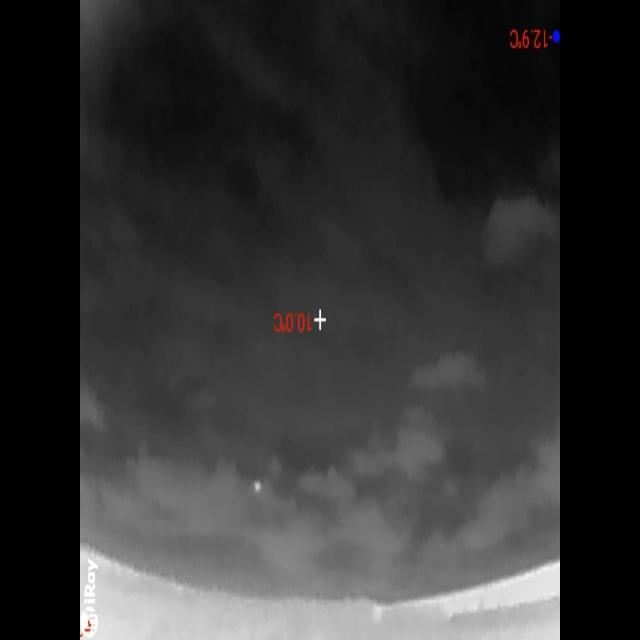drone: (253, 475, 263, 498)
